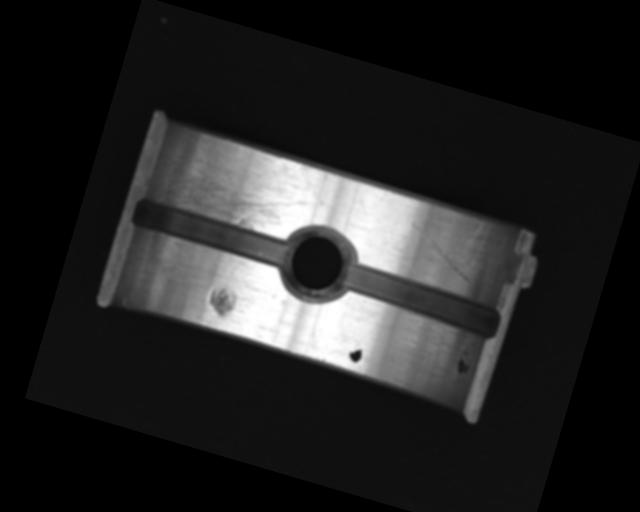blot: (453, 345, 476, 378), (346, 340, 366, 365)
bruise: (204, 282, 240, 320)
gap: (335, 258, 505, 342), (130, 194, 293, 272)
hole: (273, 218, 361, 309)
nick: (398, 220, 485, 286)
scratch: (152, 139, 313, 243)
